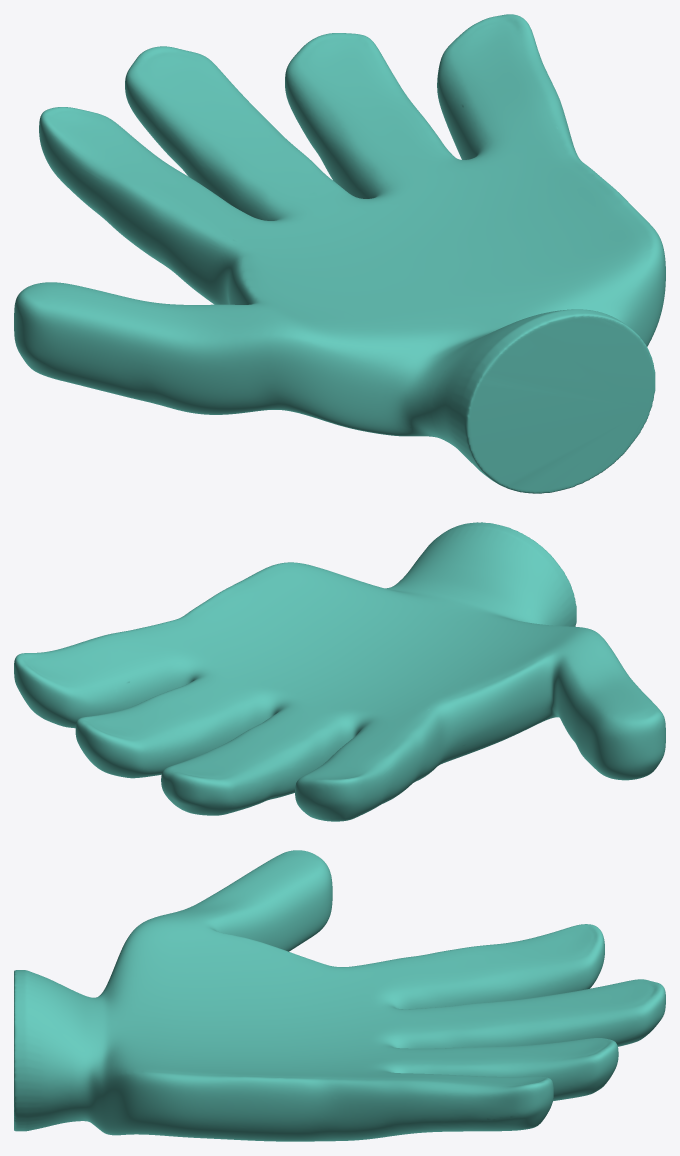
Rendered from s50_smooth_left.glb.
The picture shows the model from 3 angles, top to bottom: view 1: azimuth 30°, elevation 25°; view 2: azimuth 150°, elevation 25°; view 3: azimuth 270°, elevation 25°; orthographic projection. The views are drawn at different scales.
Visible parts, largest first — view 1: S50_Smooth_Left; view 2: S50_Smooth_Left; view 3: S50_Smooth_Left.
Part boxes in pixels (box(x1,y1,x2,y2)): S50_Smooth_Left: box(14, 14, 665, 493); S50_Smooth_Left: box(14, 522, 665, 821); S50_Smooth_Left: box(14, 850, 665, 1141).
Bounding box in the file's own units: 0.1987 × 0.0522 × 0.2115.
